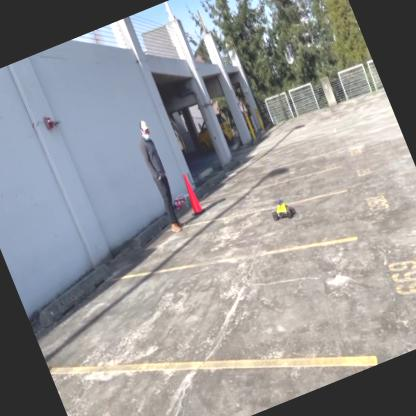cone: (177, 168, 205, 216)
mushr_car: (265, 192, 300, 228)
